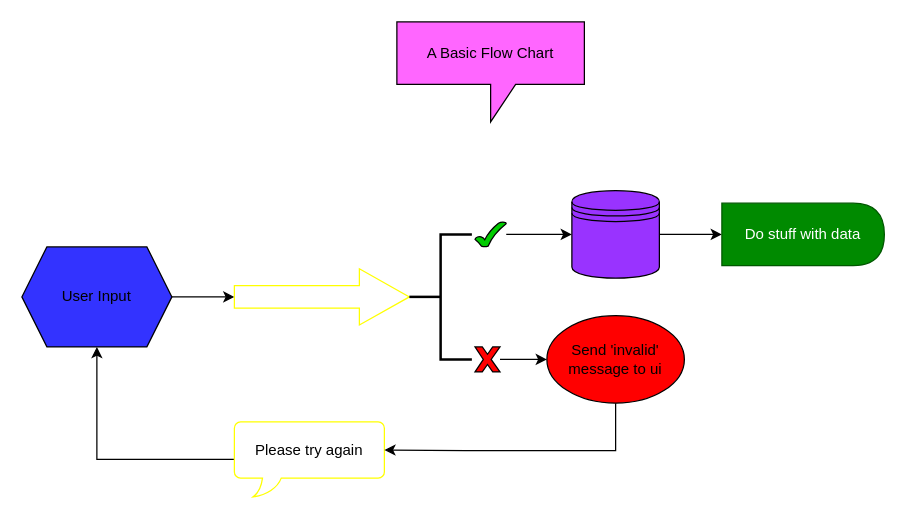
Image size: 906x519. Some labels were removed from this diagram. The shapes that lost their labels are listed below. From the top down, each one's box as (x1, y1, x2, y2) in pixels, then its label:
(571, 189, 659, 278): DB
(233, 268, 409, 325): Validation Check
